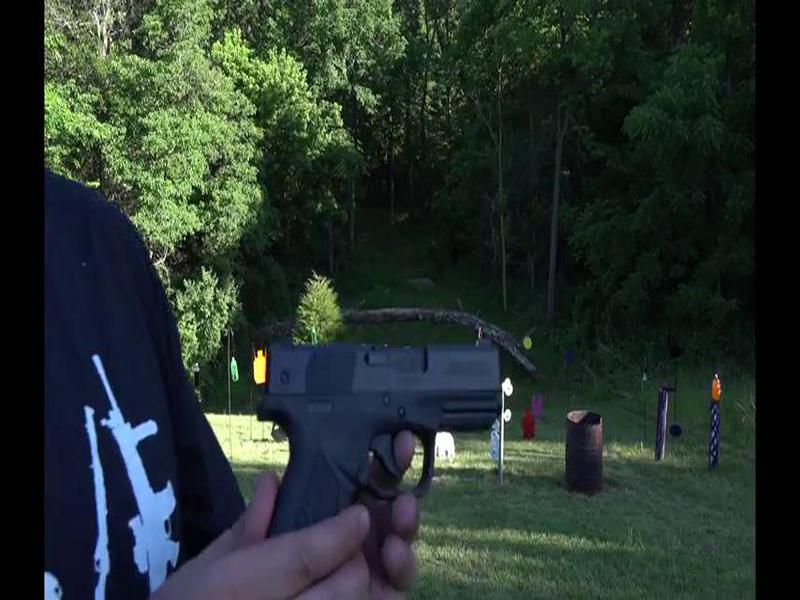Pistola: (212, 330, 518, 581)
